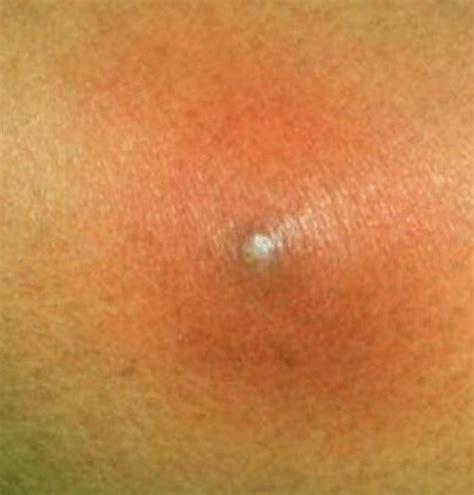Carbuncle: (218, 213, 295, 284)
